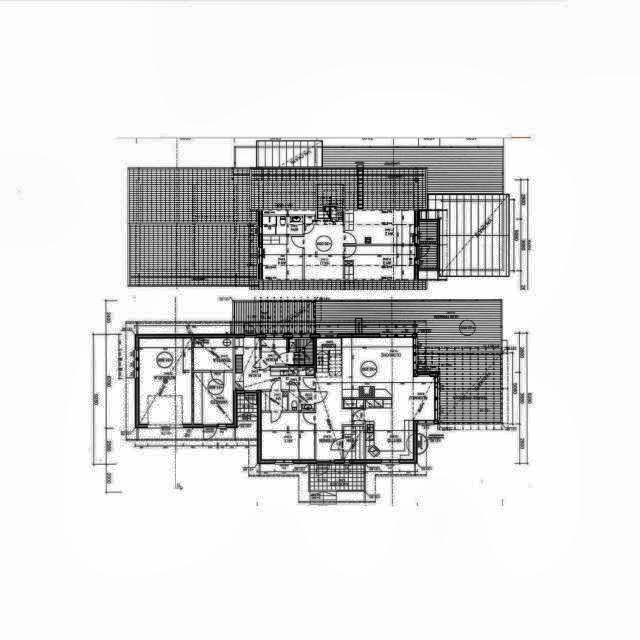room: (139, 338, 192, 424), (261, 412, 314, 460), (345, 246, 415, 279), (345, 211, 414, 244), (194, 372, 233, 423), (263, 236, 303, 279), (194, 338, 233, 370), (263, 216, 303, 234), (344, 426, 364, 459), (261, 340, 286, 366), (289, 339, 313, 365), (261, 392, 287, 411), (289, 392, 314, 410)
